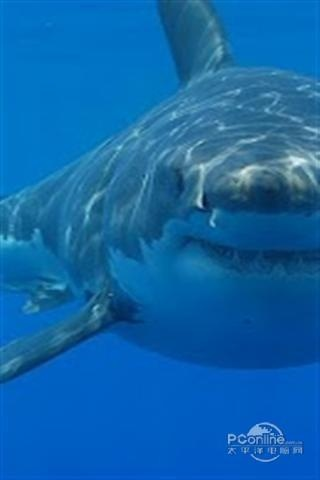fish: (1, 2, 320, 386)
